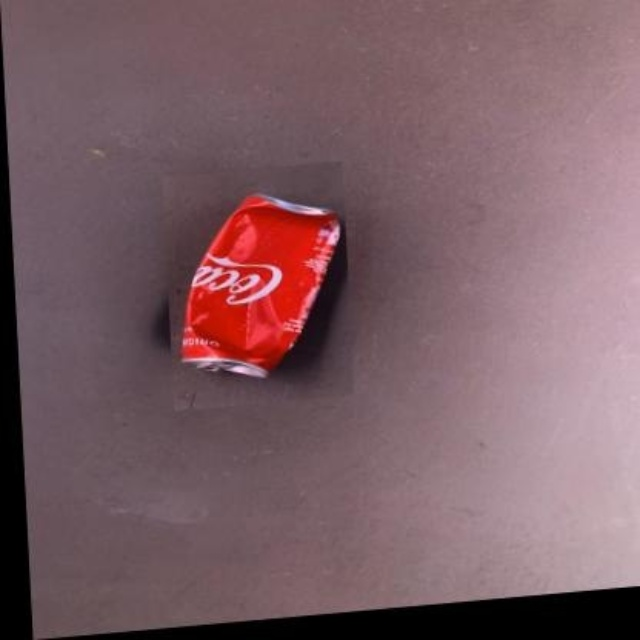trash: (182, 195, 338, 377)
